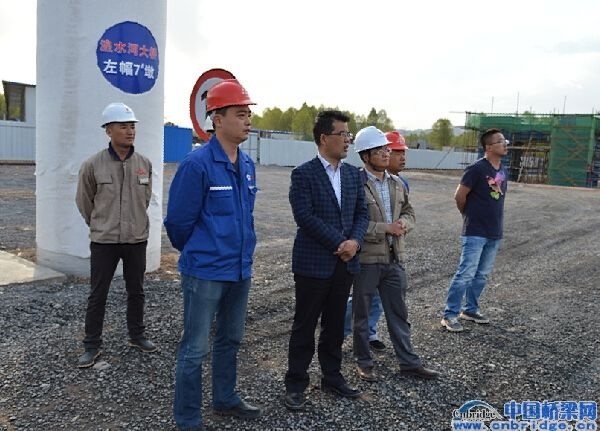none: (309, 107, 350, 162), (479, 125, 509, 161)
red: (203, 78, 256, 147), (380, 126, 407, 173)
white: (98, 98, 138, 152), (351, 122, 389, 172)
